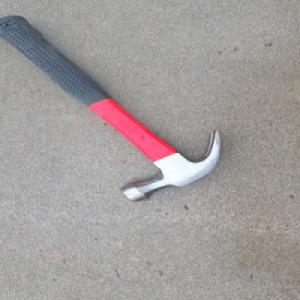Hammer: (0, 27, 225, 206)
